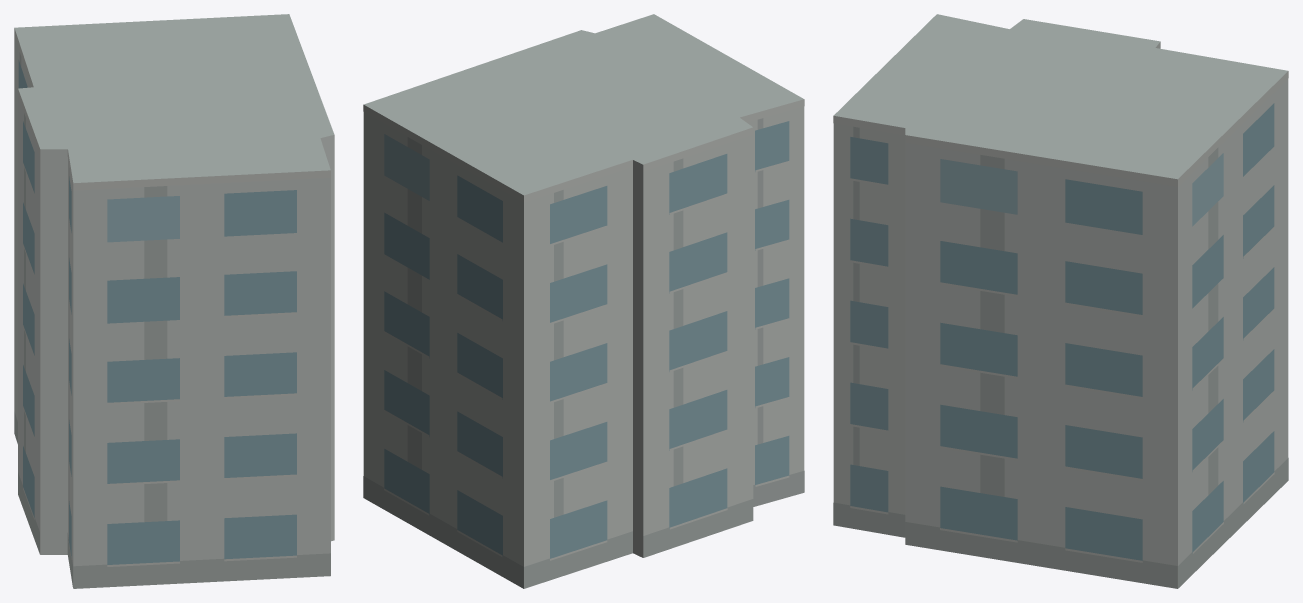
File: survey-upis-33033455.glb
3 views of the same model, side by side, from view 1: azimuth 30°, elevation 25°; view 2: azimuth 150°, elevation 25°; view 3: azimuth 270°, elevation 25° (orthographic). The views are drawn at different scales.
Parts seen in each view (by area): view 1: survey-upis-33033455.tmp; view 2: survey-upis-33033455.tmp; view 3: survey-upis-33033455.tmp.
Boxes of the visible parts, box(x1,y1,x2,y2) form: survey-upis-33033455.tmp: box(14, 14, 334, 588); survey-upis-33033455.tmp: box(363, 14, 804, 588); survey-upis-33033455.tmp: box(833, 14, 1288, 588).
Size of the model in its own units: 11.43 by 13.2 by 13.3.
